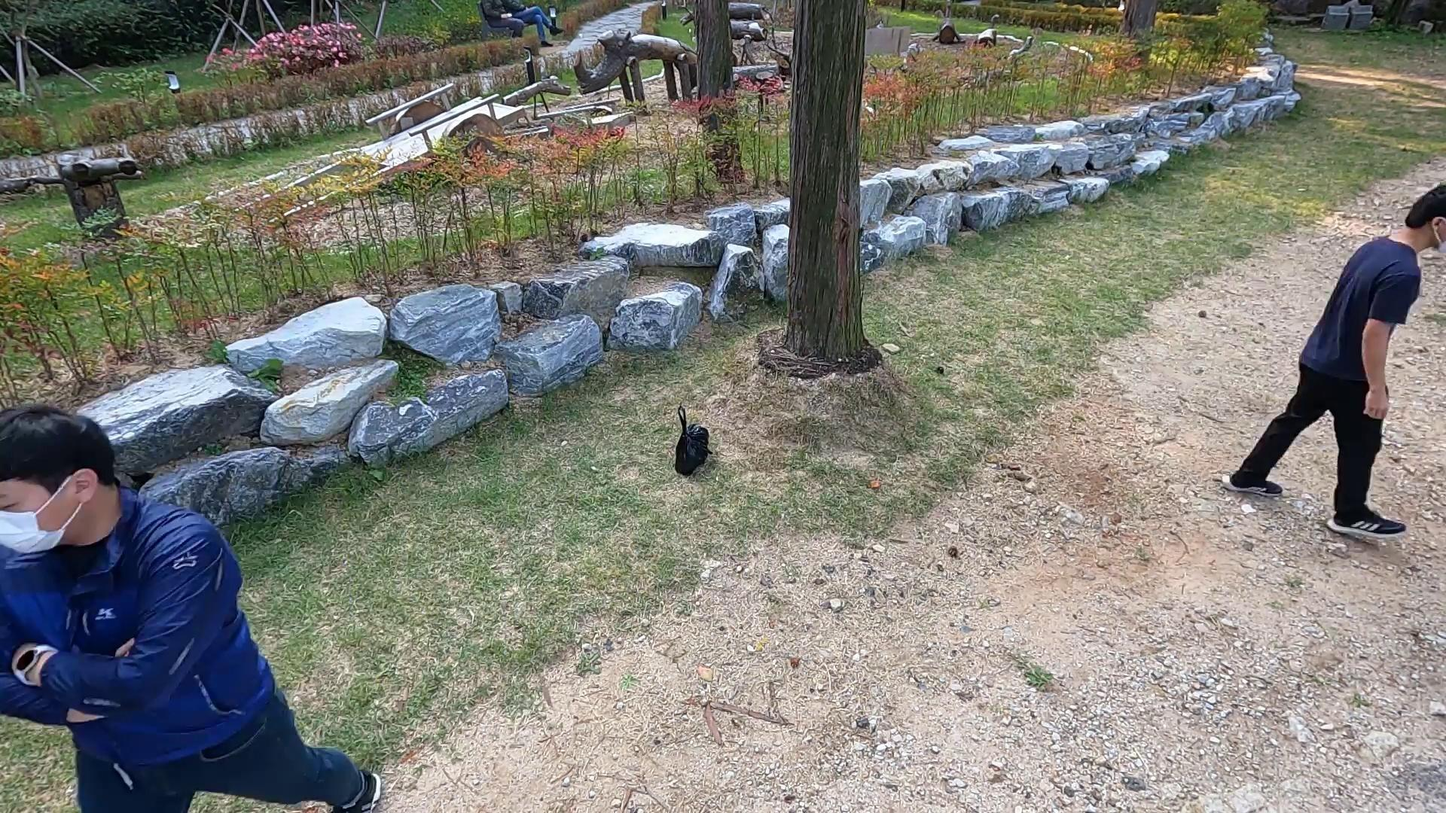person: (2, 391, 403, 813), (1223, 154, 1446, 547), (503, 0, 568, 48), (469, 0, 524, 45)
trash: (663, 400, 720, 481)
